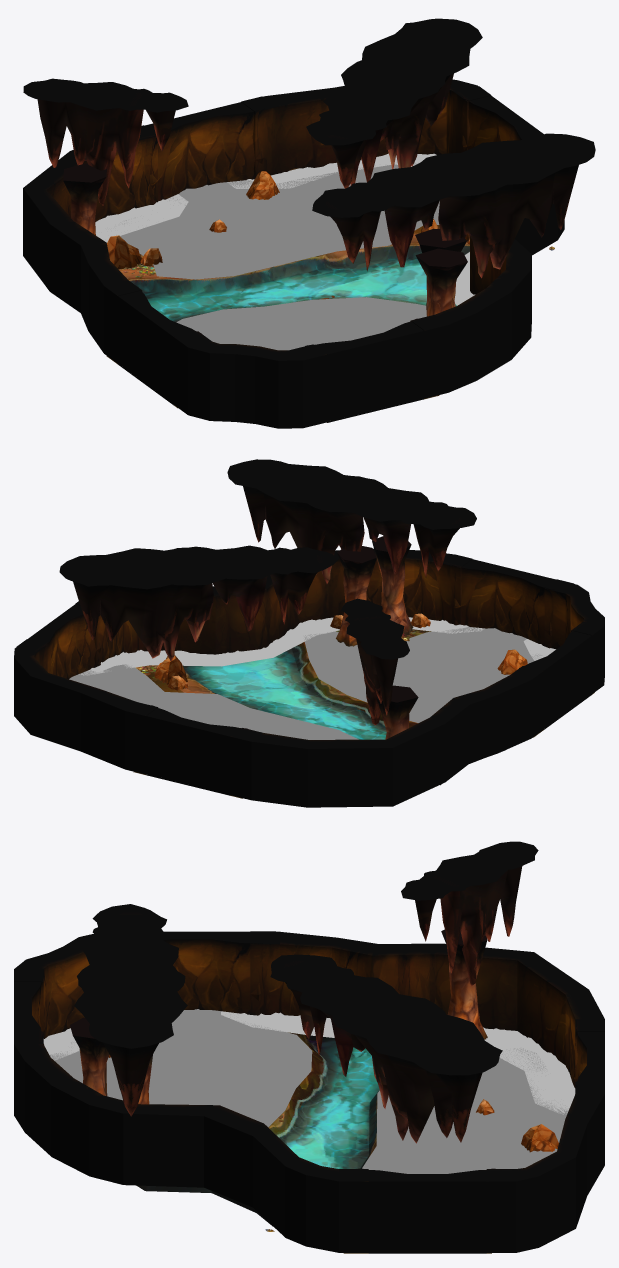
The model's file is Dungeon_062_RoomSW_006.fbx.
3 views of the same model, one above another, from view 1: azimuth 30°, elevation 25°; view 2: azimuth 150°, elevation 25°; view 3: azimuth 270°, elevation 25° (orthographic). The views are drawn at different scales.
Visible parts, largest first — view 1: Dun_062_Room_003_Object02, Dun_062_Room_003_wall, Dun_062_RoomSW_001_Nav, Dun_062_Door_002 (×4), Dun_062_Room_003_kawa01, Dun_062_Object011, Dun_062_Room_003_shadow, Dun_062_Object_101, Dungeon_062_Object_04_Pillar, Dungeon_062_Object_03_Rock; view 2: Dun_062_Room_003_wall, Dun_062_Room_003_Object02, Dun_062_Door_002 (×4), Dun_062_RoomSW_001_Nav, Dun_062_Room_003_kawa01, Dun_062_Room_003_shadow, Dun_062_Object011, Dungeon_062_Object_04_Pillar, Dun_062_Object_101, Dungeon_062_Object_03_Rock; view 3: Dun_062_Room_003_wall, Dun_062_Room_003_Object02, Dun_062_RoomSW_001_Nav, Dun_062_Door_002 (×4), Dun_062_Room_003_kawa01, Dun_062_Room_003_shadow, Dun_062_Object011, Dungeon_062_Object_03_Rock.
Boxes of the visible parts, x1,y1,x2,y2 form: Dun_062_Room_003_Object02: (23, 18, 595, 278); Dun_062_Room_003_wall: (23, 79, 564, 428); Dun_062_RoomSW_001_Nav: (120, 162, 439, 350); Dun_062_Door_002 (×4): (106, 86, 543, 422); Dun_062_Room_003_kawa01: (119, 233, 469, 322); Dun_062_Object011: (63, 163, 467, 316); Dun_062_Room_003_shadow: (95, 153, 475, 305); Dun_062_Object_101: (107, 219, 469, 269); Dungeon_062_Object_04_Pillar: (415, 228, 467, 316); Dungeon_062_Object_03_Rock: (246, 171, 279, 199); Dun_062_Room_003_wall: (14, 548, 604, 807); Dun_062_Room_003_Object02: (59, 459, 476, 725); Dun_062_Door_002 (×4): (16, 554, 602, 795); Dun_062_RoomSW_001_Nav: (69, 626, 543, 739); Dun_062_Room_003_kawa01: (155, 642, 505, 785); Dun_062_Room_003_shadow: (78, 617, 555, 675); Dun_062_Object011: (372, 536, 418, 739); Dungeon_062_Object_04_Pillar: (336, 546, 376, 646); Dun_062_Object_101: (154, 613, 430, 690); Dungeon_062_Object_03_Rock: (497, 649, 527, 674); Dun_062_Room_003_wall: (14, 931, 604, 1252); Dun_062_Room_003_Object02: (74, 841, 538, 1143); Dun_062_RoomSW_001_Nav: (49, 1009, 568, 1173); Dun_062_Door_002 (×4): (14, 931, 604, 1253); Dun_062_Room_003_kawa01: (137, 1032, 379, 1226); Dun_062_Room_003_shadow: (43, 1011, 575, 1114); Dun_062_Object011: (70, 929, 487, 1096); Dungeon_062_Object_03_Rock: (521, 1124, 558, 1152).
Bounding box in the file's own units: 15.06 × 5.27 × 15.
